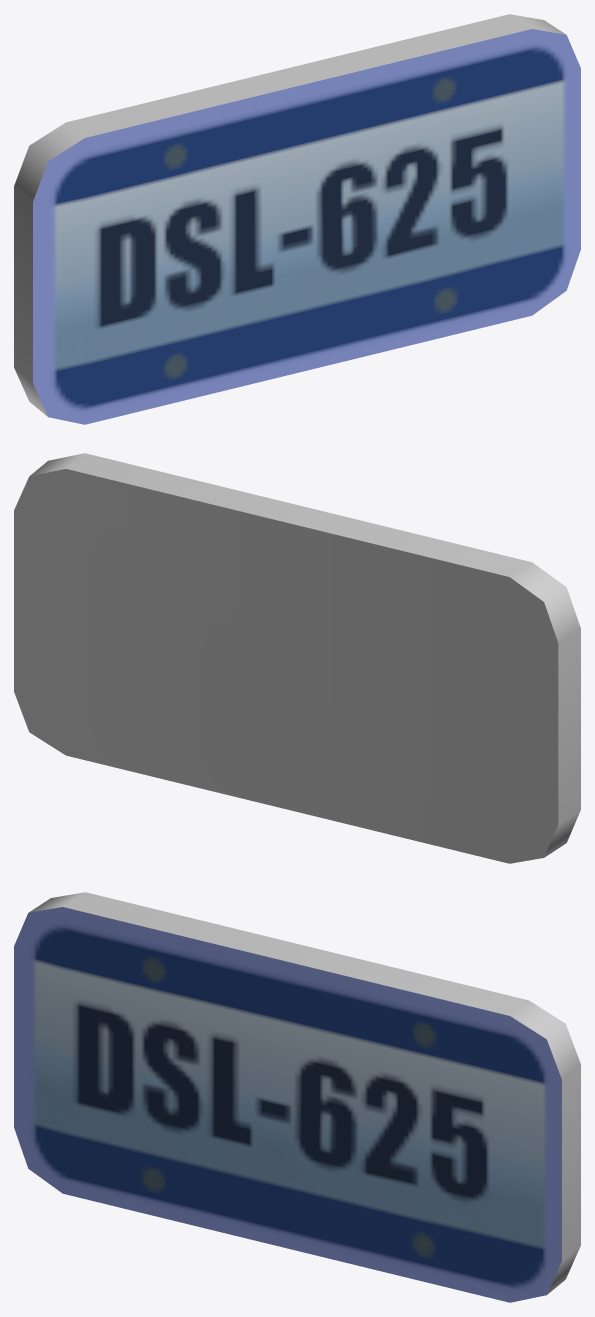
File: Car_Number_08.fbx
3 views of the same model, one above another, from view 1: azimuth 30°, elevation 25°; view 2: azimuth 150°, elevation 25°; view 3: azimuth 330°, elevation 25° (orthographic).
Parts seen in each view (by area): view 1: Car_Number_08; view 2: Car_Number_08; view 3: Car_Number_08.
Part boxes in pixels (bbox=[...]): Car_Number_08: bbox=[14, 14, 580, 424]; Car_Number_08: bbox=[14, 453, 580, 863]; Car_Number_08: bbox=[14, 892, 580, 1302].
Size of the model in its own units: 49.09 by 3.48 by 24.55.
